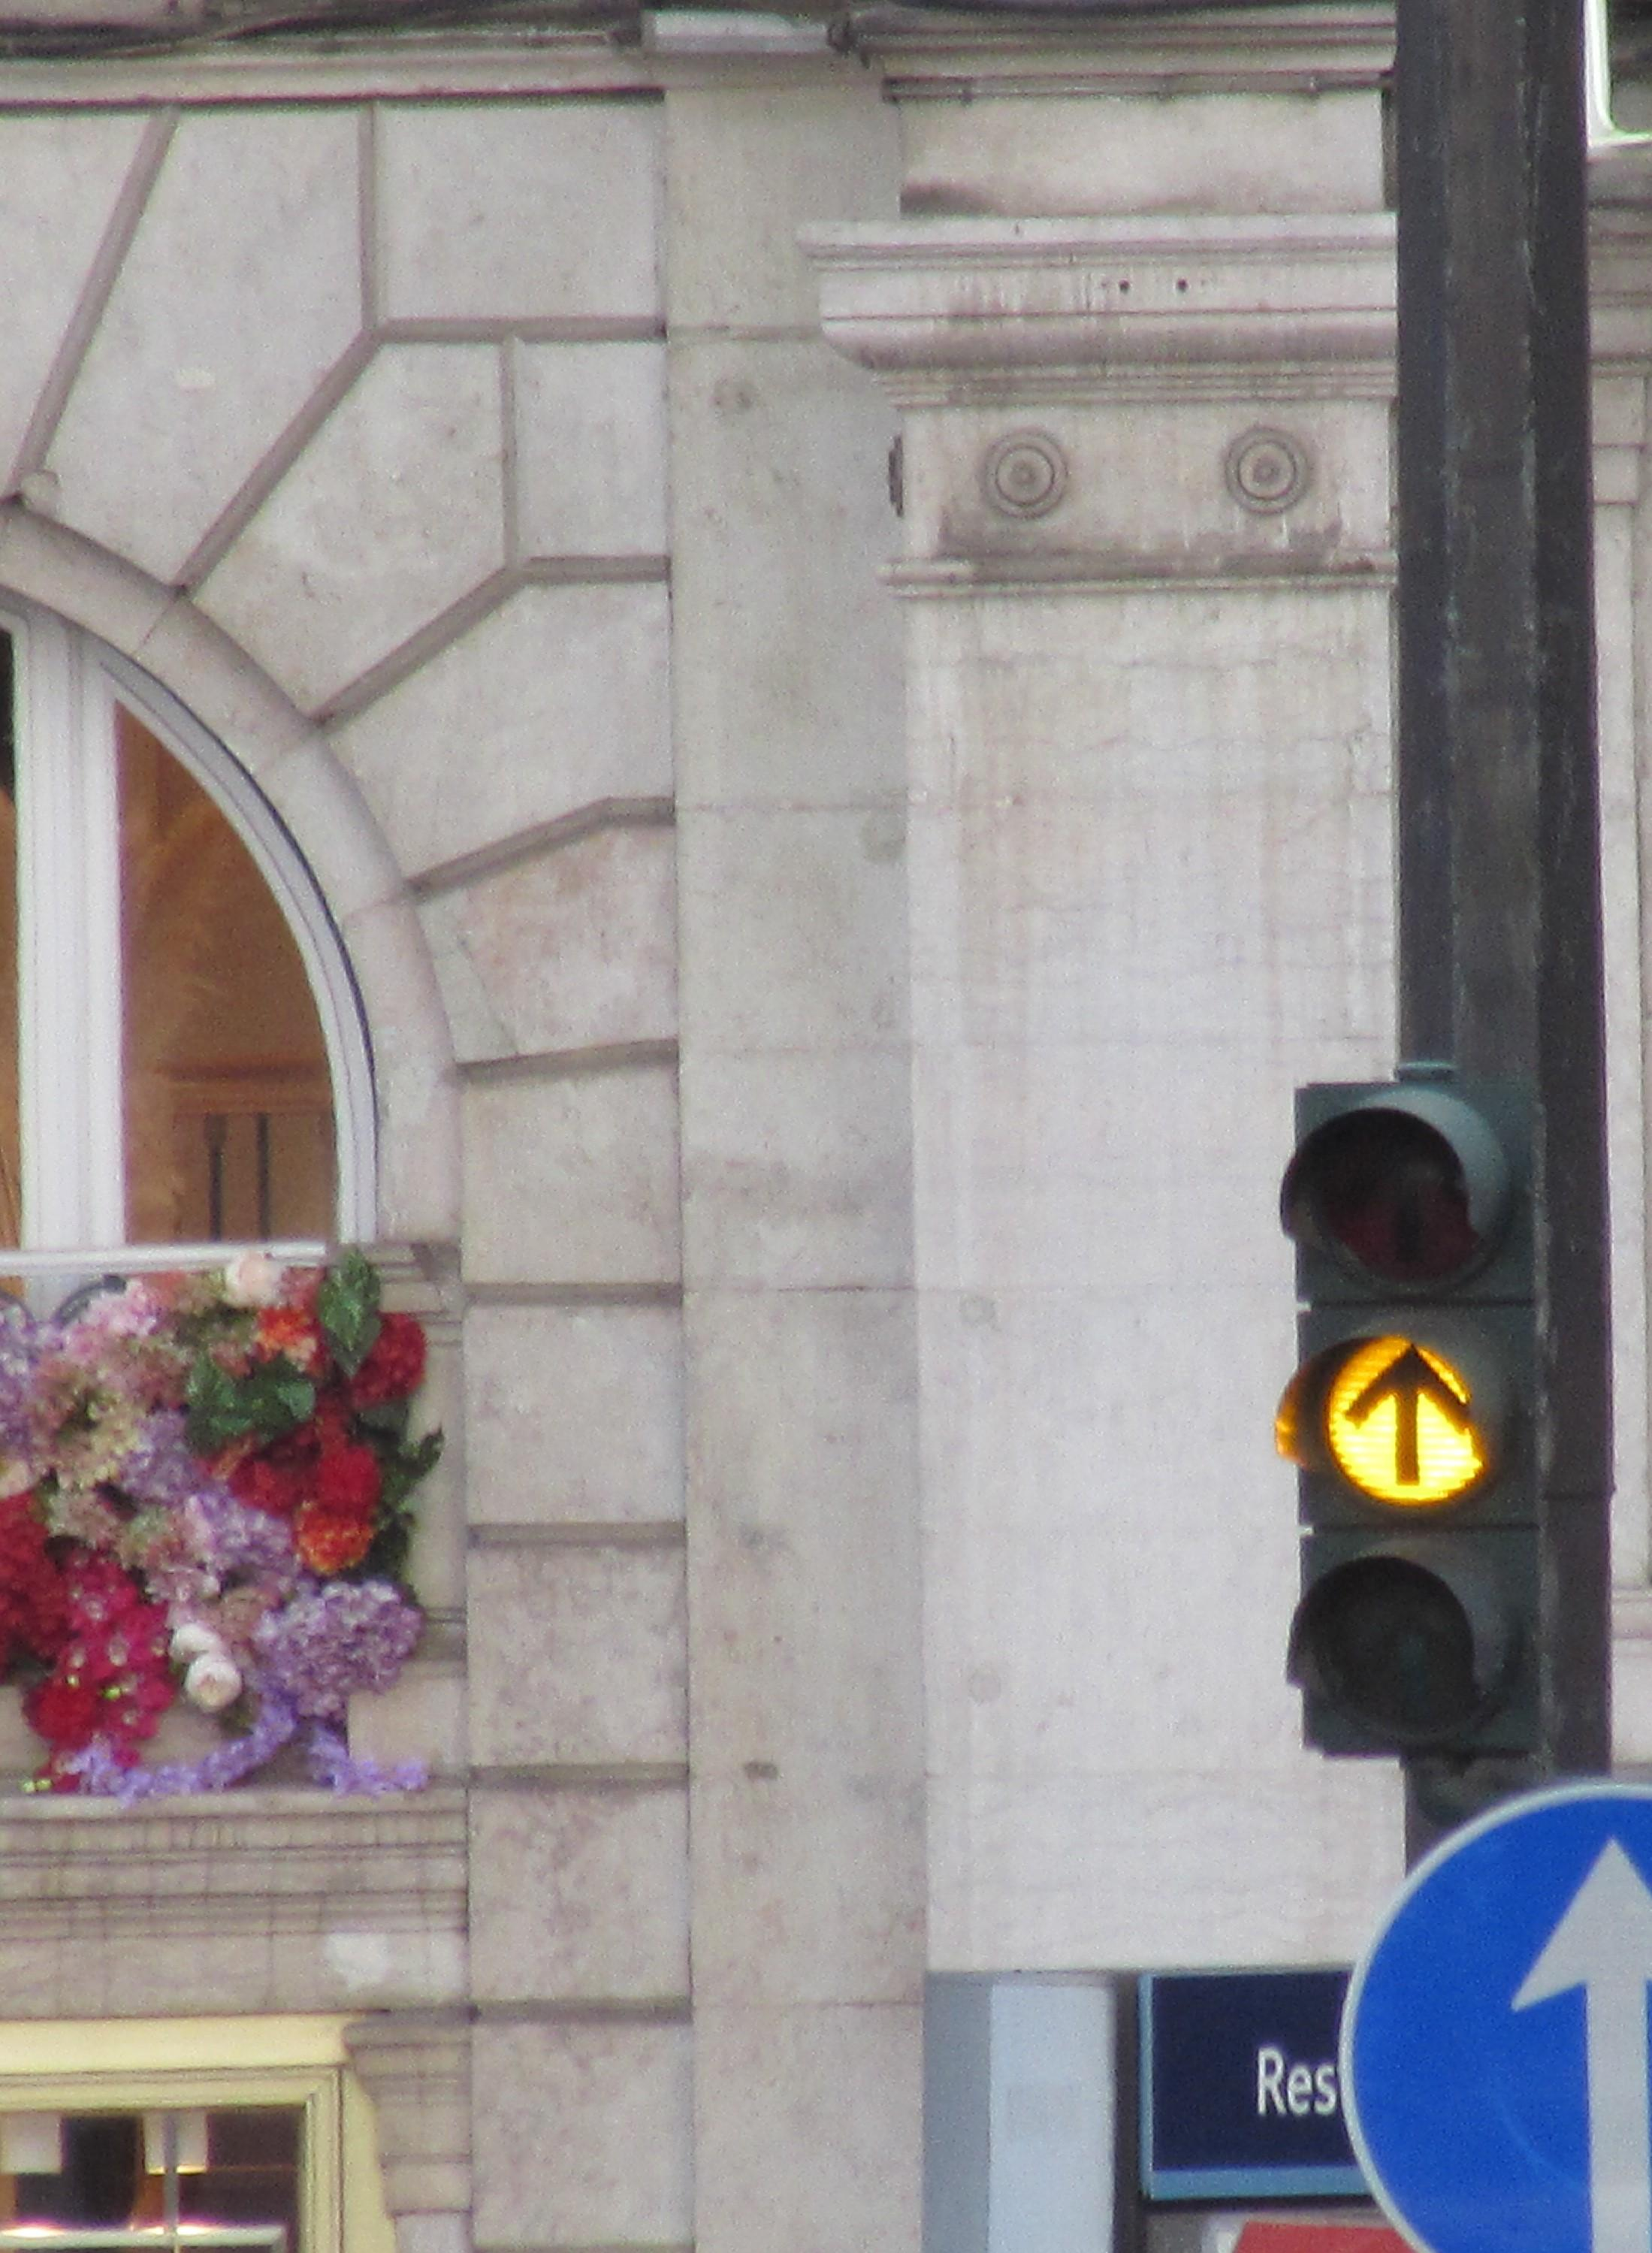yellow_light: (1274, 1079, 1547, 1751)
